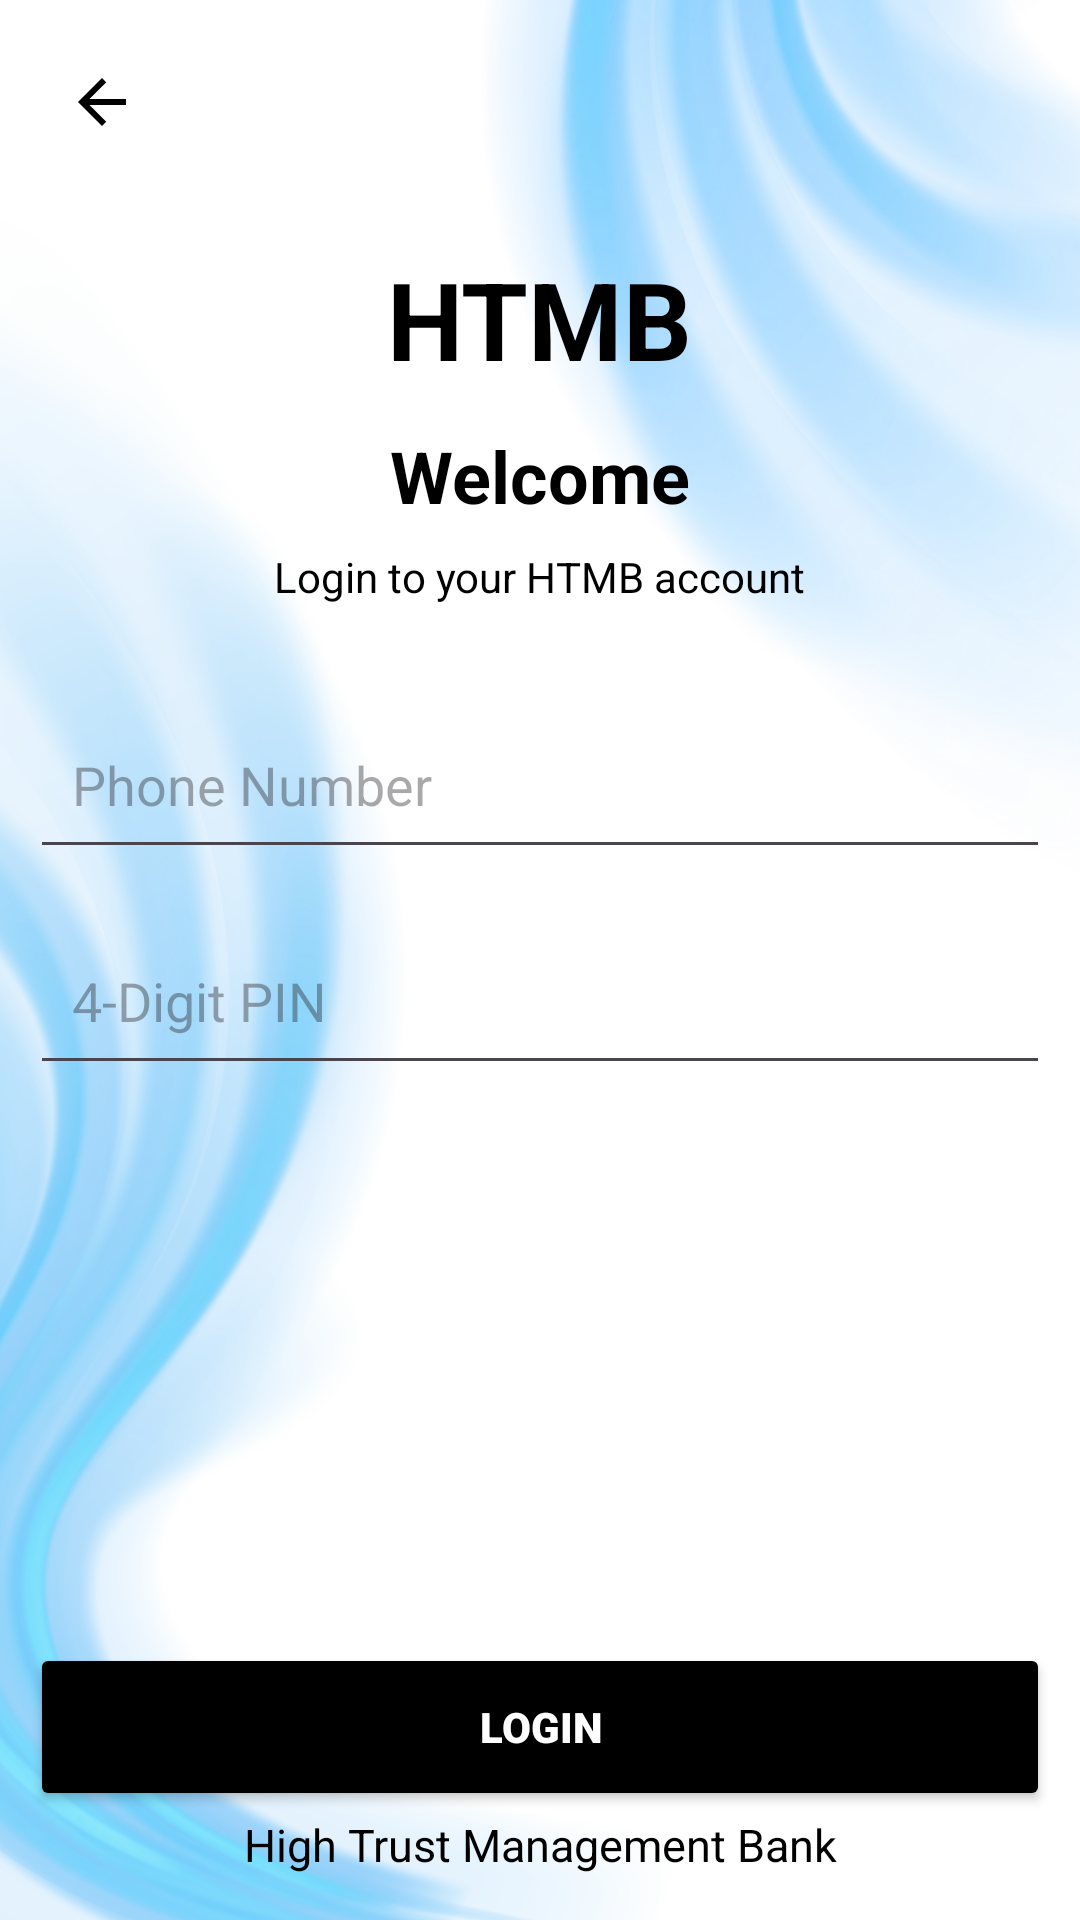

Icon bounding boxes for this 1080x1920 phone screenshot, format (x1, y1, x2, y2):
Go back: (78, 78, 126, 126)
